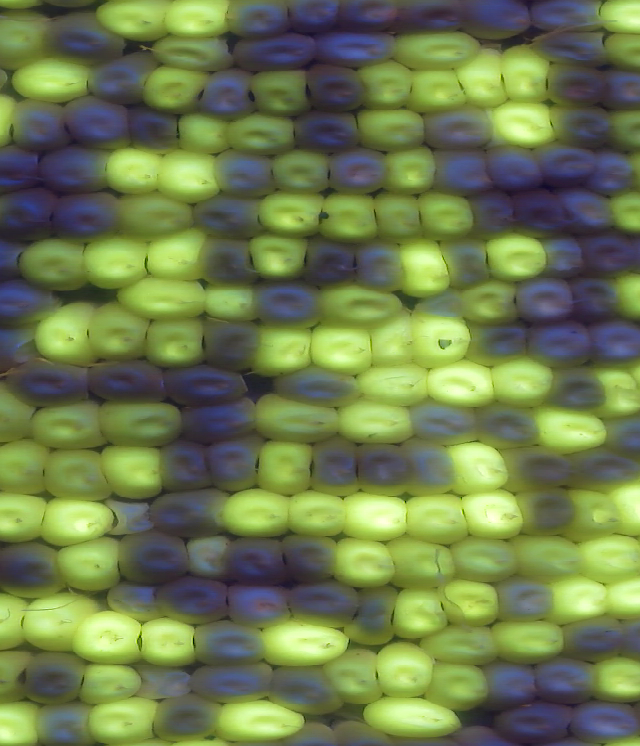fluorescent: (20, 591, 103, 655), (250, 390, 344, 446), (32, 299, 105, 369), (358, 694, 465, 740), (313, 278, 411, 327), (531, 397, 609, 457), (88, 299, 156, 367), (52, 535, 129, 595), (115, 279, 212, 326), (258, 620, 351, 669), (382, 533, 459, 592), (213, 696, 307, 744), (95, 398, 183, 448), (30, 402, 113, 455), (73, 609, 146, 668), (219, 487, 297, 542), (446, 437, 514, 500), (404, 491, 476, 550), (446, 533, 523, 588), (139, 62, 213, 119), (96, 446, 171, 502), (40, 494, 119, 547), (504, 532, 587, 581), (340, 491, 411, 548), (330, 533, 399, 590), (351, 105, 431, 154), (489, 356, 559, 412), (425, 660, 496, 715), (425, 362, 501, 413), (250, 324, 318, 381), (387, 583, 454, 640), (148, 34, 241, 75), (92, 1, 173, 48), (109, 195, 197, 238), (139, 318, 209, 372), (421, 622, 505, 667), (83, 697, 165, 743), (18, 239, 89, 292), (454, 46, 511, 112), (155, 149, 223, 204), (482, 232, 551, 286), (253, 440, 317, 498), (490, 97, 560, 150), (136, 618, 202, 674), (82, 236, 149, 291), (496, 44, 556, 105), (10, 58, 95, 101), (49, 449, 114, 505), (310, 321, 376, 376), (249, 66, 317, 119), (436, 579, 505, 631), (361, 316, 423, 373), (373, 638, 435, 695), (543, 576, 612, 627), (255, 191, 328, 239), (392, 33, 484, 71), (352, 56, 415, 111), (355, 365, 432, 410), (315, 191, 381, 243), (326, 647, 384, 706), (492, 617, 566, 663), (411, 314, 474, 368), (459, 490, 527, 540), (336, 401, 413, 445), (102, 148, 167, 200), (399, 240, 455, 300), (415, 191, 478, 243), (563, 486, 621, 542), (456, 279, 521, 328), (74, 662, 146, 706), (370, 189, 428, 243), (283, 489, 348, 537), (245, 234, 311, 281), (0, 9, 49, 71), (227, 113, 299, 155), (0, 439, 49, 500), (405, 69, 471, 114), (147, 232, 207, 281), (376, 148, 438, 194), (268, 151, 335, 192), (199, 281, 264, 323), (591, 655, 640, 710), (592, 363, 640, 419), (173, 108, 230, 155), (0, 491, 49, 545), (162, 1, 232, 37), (574, 538, 640, 576), (0, 382, 38, 447), (0, 696, 46, 746), (0, 593, 34, 654), (605, 104, 640, 152), (0, 646, 30, 701), (596, 1, 640, 38), (609, 187, 640, 239), (599, 32, 640, 70), (608, 576, 640, 619)
nonfluorescent: (265, 664, 347, 719), (116, 532, 194, 588), (160, 362, 259, 406), (147, 693, 227, 746), (157, 573, 234, 628), (461, 318, 536, 373), (46, 188, 122, 241), (0, 542, 69, 600), (8, 357, 88, 407), (5, 94, 72, 153), (186, 192, 268, 240), (35, 146, 112, 197), (541, 59, 612, 114), (476, 398, 547, 453), (186, 660, 283, 700), (503, 442, 580, 492), (83, 357, 168, 402), (63, 96, 130, 153), (270, 368, 365, 408), (227, 29, 317, 71), (540, 365, 612, 417), (281, 581, 359, 629), (189, 620, 274, 664), (400, 434, 458, 498), (304, 62, 374, 115), (26, 651, 93, 706), (86, 50, 156, 102), (413, 398, 487, 447), (417, 105, 495, 150), (127, 658, 197, 708), (547, 98, 614, 150), (204, 319, 265, 376), (55, 13, 128, 60), (252, 279, 322, 328), (351, 237, 410, 295), (214, 151, 281, 202), (515, 486, 582, 537), (527, 316, 590, 370), (175, 402, 260, 442), (532, 652, 600, 702), (353, 439, 411, 497), (0, 188, 60, 244), (197, 233, 259, 287), (206, 437, 268, 491), (150, 490, 222, 536), (541, 138, 600, 194), (278, 530, 344, 580), (460, 1, 536, 44), (27, 703, 103, 746), (220, 1, 298, 42), (346, 585, 401, 643), (329, 143, 388, 197), (509, 185, 568, 239), (0, 276, 60, 329), (310, 437, 363, 497), (429, 148, 495, 196), (226, 534, 289, 584), (437, 236, 492, 293), (291, 108, 362, 152), (221, 583, 292, 627), (395, 1, 479, 37), (557, 185, 614, 238), (302, 235, 359, 288), (162, 438, 215, 495), (124, 101, 183, 152), (479, 659, 539, 709), (490, 702, 573, 738), (201, 66, 256, 120), (102, 583, 173, 624), (574, 445, 640, 488), (530, 1, 611, 36), (489, 142, 543, 194), (574, 702, 640, 744), (495, 576, 555, 622), (581, 234, 640, 280), (465, 191, 519, 241), (314, 28, 390, 63), (564, 620, 632, 659), (332, 1, 406, 35), (517, 275, 570, 322), (582, 319, 640, 360), (584, 145, 634, 192), (570, 273, 620, 320), (0, 148, 44, 198), (544, 233, 587, 281), (285, 1, 344, 34), (603, 69, 640, 111), (607, 413, 640, 456)
